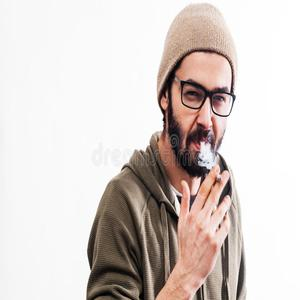cigarette: (216, 174, 224, 184)
